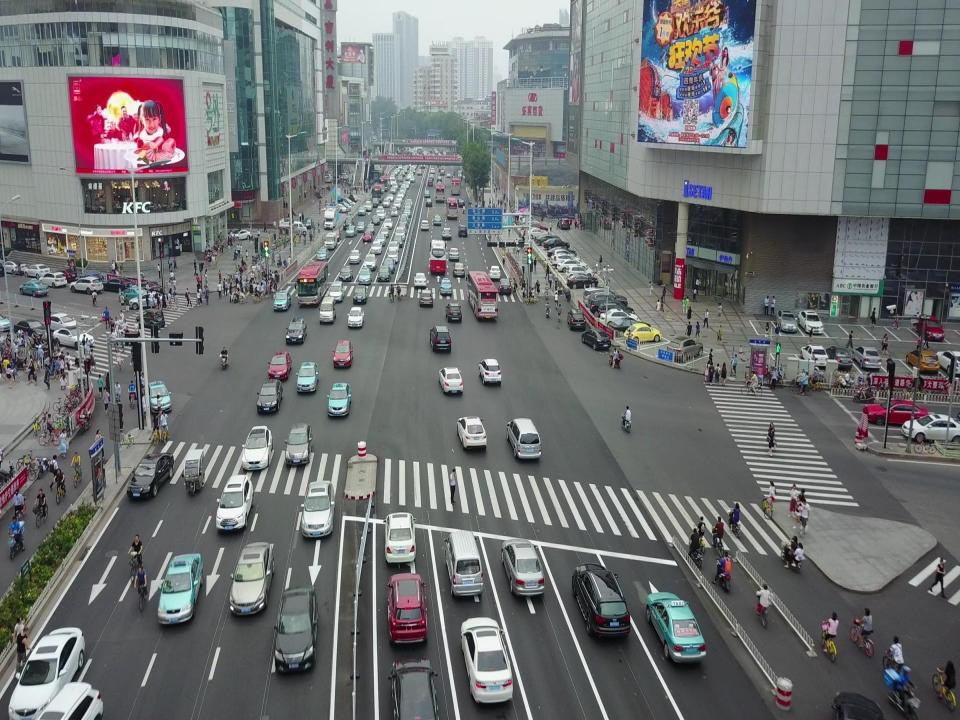bus: (465, 270, 498, 320), (294, 261, 328, 306), (430, 240, 446, 276), (445, 198, 457, 220)
car: (8, 627, 84, 719), (460, 617, 513, 703), (572, 562, 631, 636), (646, 592, 706, 663), (273, 586, 317, 672), (229, 542, 275, 616), (157, 552, 203, 625), (388, 659, 438, 718), (385, 573, 427, 643), (33, 680, 102, 720), (443, 530, 483, 596), (501, 539, 545, 596), (126, 453, 174, 498), (216, 474, 253, 530), (300, 480, 334, 537), (862, 399, 928, 426), (901, 414, 960, 444), (382, 512, 416, 563), (241, 424, 273, 470), (506, 417, 541, 459), (284, 424, 313, 466), (456, 416, 486, 451), (667, 335, 703, 362), (256, 379, 283, 413), (327, 383, 352, 417), (609, 318, 651, 338), (851, 344, 881, 371), (53, 328, 95, 347), (586, 290, 628, 309), (147, 381, 171, 414), (800, 343, 828, 371), (624, 323, 662, 343), (824, 344, 854, 369), (12, 318, 48, 338), (599, 308, 639, 326), (589, 298, 626, 317), (268, 351, 292, 380), (46, 312, 80, 332), (582, 286, 616, 306), (296, 362, 318, 392), (438, 367, 463, 393), (478, 358, 502, 385), (597, 301, 635, 318), (581, 329, 611, 350), (332, 340, 354, 368), (285, 316, 307, 344), (797, 311, 823, 334), (69, 277, 103, 294), (118, 286, 150, 304), (429, 325, 451, 351), (19, 278, 49, 297), (775, 309, 798, 332), (566, 273, 598, 289), (102, 278, 134, 293), (39, 272, 67, 288), (566, 309, 586, 331), (76, 273, 103, 289), (24, 264, 50, 279), (444, 302, 462, 323), (273, 290, 291, 311), (347, 307, 364, 328), (328, 281, 345, 302), (352, 285, 368, 305), (53, 268, 77, 281), (50, 454, 58, 491), (418, 290, 434, 308), (338, 265, 353, 282), (438, 278, 452, 296), (357, 266, 371, 284), (363, 254, 377, 271), (412, 272, 426, 288), (451, 262, 465, 278), (498, 278, 512, 294), (377, 266, 391, 282), (382, 258, 395, 274), (348, 249, 360, 265), (489, 265, 501, 280), (448, 248, 460, 262), (316, 248, 330, 260), (394, 227, 406, 241), (370, 241, 382, 254), (387, 249, 398, 263), (345, 226, 357, 238), (392, 235, 404, 247), (388, 241, 399, 254), (331, 229, 341, 243), (342, 218, 354, 229), (441, 227, 451, 240), (362, 230, 373, 241), (457, 224, 467, 236), (356, 220, 366, 232), (420, 220, 430, 231), (366, 224, 376, 235), (376, 234, 386, 245), (432, 215, 442, 225), (370, 215, 380, 225), (376, 210, 386, 220), (379, 227, 389, 237), (383, 219, 393, 229), (398, 216, 408, 225), (358, 206, 366, 217), (364, 201, 372, 212), (424, 197, 432, 207), (371, 197, 379, 207), (376, 206, 384, 215), (390, 207, 398, 216), (392, 200, 401, 208), (403, 208, 411, 217), (382, 198, 390, 206), (398, 225, 406, 233), (405, 198, 413, 206), (404, 202, 412, 210), (401, 214, 408, 221)
van: (135, 309, 165, 329), (318, 297, 336, 325), (323, 208, 339, 230), (324, 232, 338, 249)
